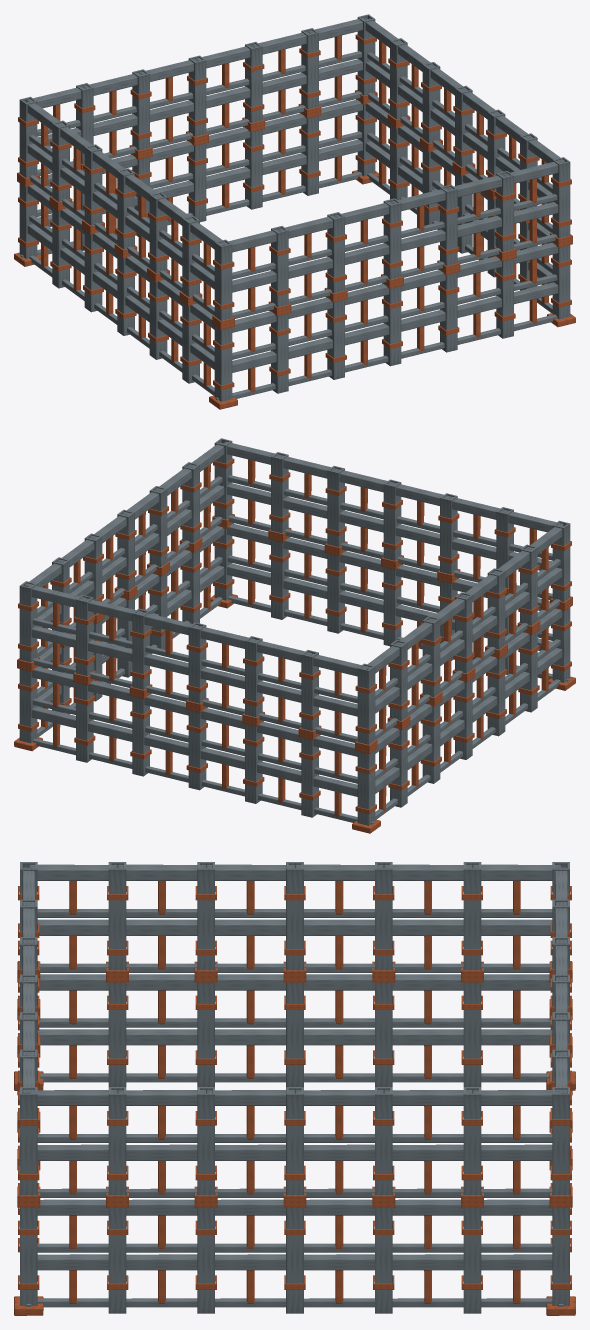
The picture shows the model from 3 angles, top to bottom: view 1: azimuth 30°, elevation 25°; view 2: azimuth 150°, elevation 25°; view 3: azimuth 270°, elevation 25°; orthographic projection. The views are drawn at different scales.
Visible parts, largest first — view 1: Tier 1 side 0 post 0, Tier 0 side 0 post 0, Tier 1 side 2 post 3, Tier 1 side 0 post 3, Tier 1 side 1 post 0, Tier 0 side 0 post 3, Tier 1 side 0 post 4, Tier 1 side 0 post 1, Tier 1 side 2 post 1, Tier 1 side 2 post 2, Tier 1 side 2 post 4, Tier 0 side 2 post 2 (+74 smaller); view 2: Tier 1 side 3 post 0, Tier 0 side 3 post 0, Tier 1 side 2 post 0, Tier 1 side 2 post 3, Tier 1 side 0 post 3, Tier 0 side 2 post 3, Tier 1 side 2 post 2, Tier 1 side 2 post 5, Tier 1 side 0 post 4, Tier 0 side 2 post 5, Tier 1 side 0 post 5, Tier 0 side 0 post 4 (+74 smaller); view 3: Tier 1 side 1 post 1, Tier 1 side 1 post 5, Tier 1 side 3 post 1, Tier 1 side 3 post 5, Tier 0 side 1 post 1, Tier 0 side 1 post 5, Tier 0 side 3 post 1, Tier 0 side 3 post 5, Tier 1 side 1 post 4, Tier 1 side 1 post 2, Tier 1 side 1 post 3, Tier 1 side 3 post 2 (+108 smaller).
Part boxes in pixels (<box>): Tier 1 side 0 post 0: <box>214,239,232,320</box>; Tier 0 side 0 post 0: <box>214,326,232,401</box>; Tier 1 side 2 post 3: <box>188,55,206,136</box>; Tier 1 side 0 post 3: <box>383,198,401,279</box>; Tier 1 side 1 post 0: <box>552,157,570,238</box>; Tier 0 side 0 post 3: <box>383,286,401,366</box>; Tier 1 side 0 post 4: <box>440,184,457,265</box>; Tier 1 side 0 post 1: <box>271,226,288,306</box>; Tier 1 side 2 post 1: <box>301,28,318,109</box>; Tier 1 side 2 post 2: <box>245,42,262,122</box>; Tier 1 side 2 post 4: <box>132,69,149,150</box>; Tier 0 side 2 post 2: <box>245,129,262,209</box>; Tier 1 side 3 post 0: <box>357,663,375,744</box>; Tier 0 side 3 post 0: <box>357,750,375,825</box>; Tier 1 side 2 post 0: <box>19,581,37,662</box>; Tier 1 side 2 post 3: <box>188,622,206,703</box>; Tier 1 side 0 post 3: <box>383,479,401,560</box>; Tier 0 side 2 post 3: <box>188,710,206,790</box>; Tier 1 side 2 post 2: <box>132,608,149,689</box>; Tier 1 side 2 post 5: <box>301,650,318,730</box>; Tier 1 side 0 post 4: <box>327,466,344,546</box>; Tier 0 side 2 post 5: <box>301,737,318,817</box>; Tier 1 side 0 post 5: <box>271,452,288,533</box>; Tier 0 side 0 post 4: <box>327,553,344,633</box>; Tier 1 side 1 post 1: <box>108,1087,126,1195</box>; Tier 1 side 1 post 5: <box>463,1087,481,1195</box>; Tier 1 side 3 post 1: <box>463,862,481,970</box>; Tier 1 side 3 post 5: <box>108,862,126,970</box>; Tier 0 side 1 post 1: <box>108,1207,126,1313</box>; Tier 0 side 1 post 5: <box>463,1207,481,1313</box>; Tier 0 side 3 post 1: <box>463,982,481,1086</box>; Tier 0 side 3 post 5: <box>108,982,126,1086</box>; Tier 1 side 1 post 4: <box>375,1087,392,1195</box>; Tier 1 side 1 post 2: <box>197,1087,214,1195</box>; Tier 1 side 1 post 3: <box>286,1087,303,1195</box>; Tier 1 side 3 post 2: <box>375,862,392,970</box>.
Size of the model in its own units: 2.85 by 1.23 by 2.85.
Materials: 2 (2 with a texture image).
